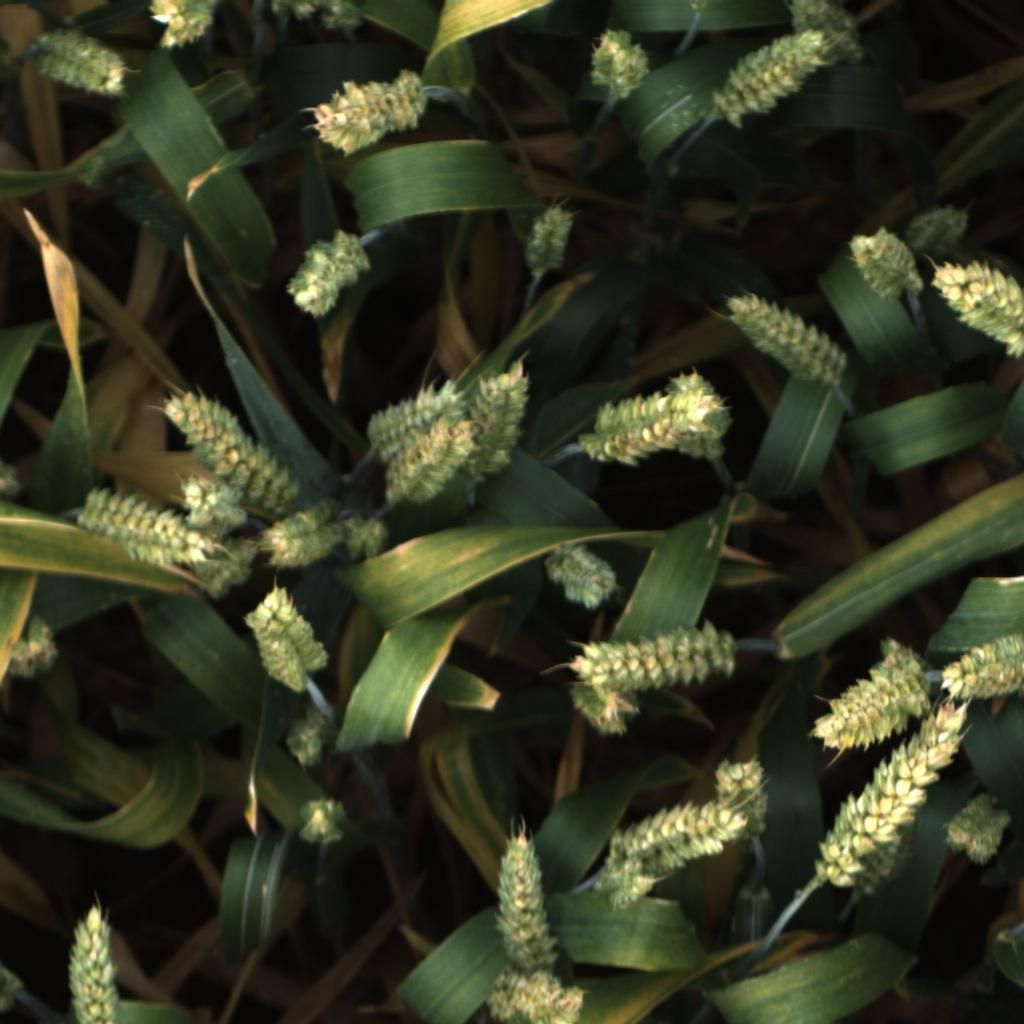0-0: (811, 698, 974, 902), (153, 387, 318, 517), (560, 619, 738, 699), (65, 483, 223, 570), (726, 289, 853, 393), (809, 651, 932, 752), (713, 25, 830, 128), (606, 796, 746, 880), (378, 410, 487, 513), (310, 63, 432, 155), (489, 827, 561, 981), (571, 386, 704, 466), (239, 584, 333, 695), (361, 376, 473, 464), (930, 256, 1024, 359), (459, 358, 533, 482), (283, 230, 375, 324), (63, 900, 126, 1024), (772, 2, 876, 75), (934, 620, 1023, 704), (29, 29, 128, 102), (844, 223, 926, 309), (581, 23, 660, 103), (667, 365, 735, 456), (258, 498, 345, 569), (480, 970, 588, 1024), (569, 675, 651, 744), (544, 545, 620, 613), (942, 791, 1009, 868), (714, 753, 772, 840), (901, 193, 976, 260), (167, 475, 249, 534), (190, 532, 261, 600), (518, 202, 579, 279), (140, 0, 226, 54), (590, 852, 661, 913), (877, 630, 937, 697), (273, 707, 336, 770), (5, 616, 61, 681), (266, 0, 366, 34), (293, 796, 353, 851), (339, 510, 392, 566), (0, 961, 30, 1015), (1, 458, 26, 501)
